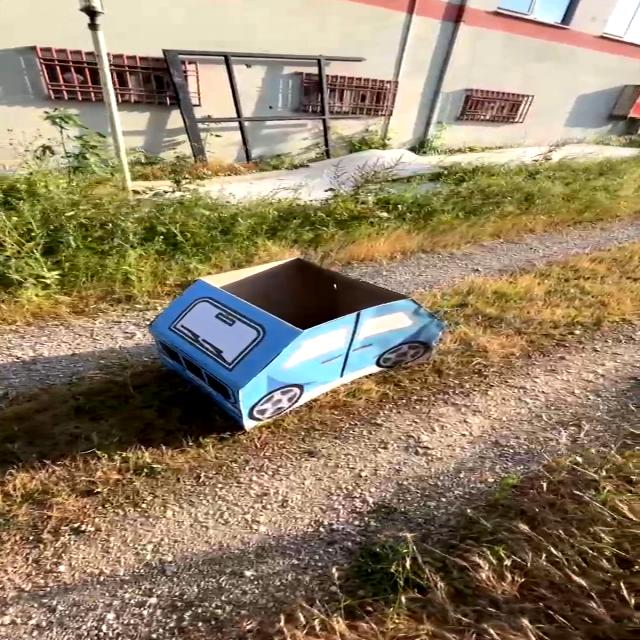blue_car: (88, 232, 475, 444)
